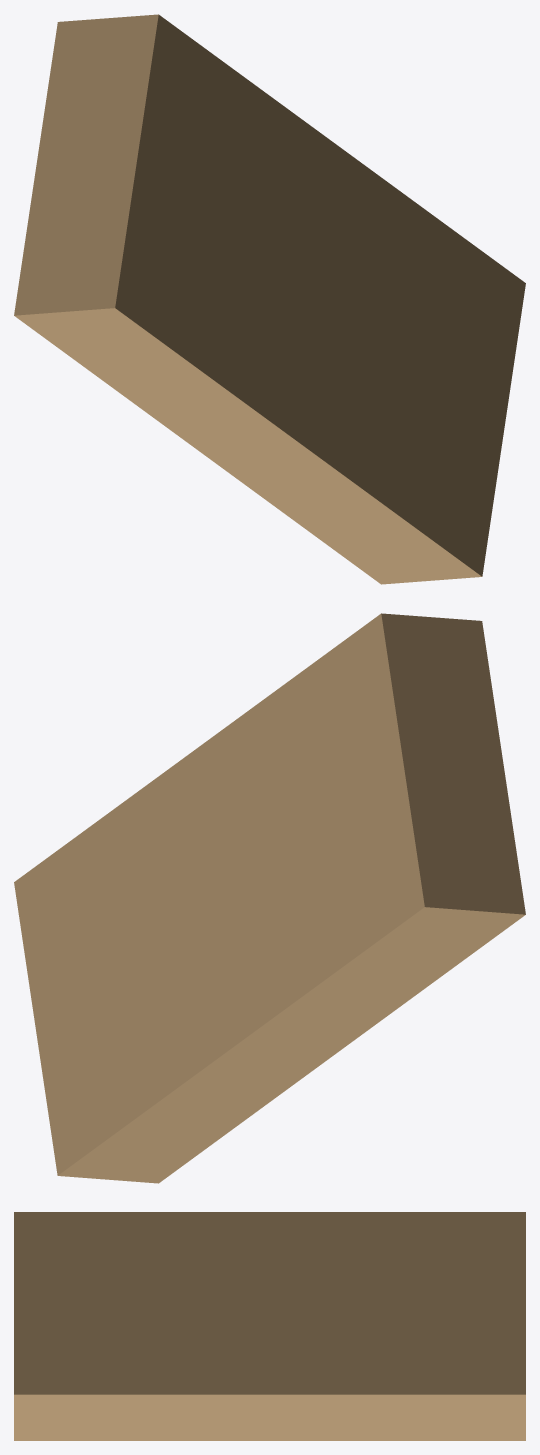
3 renders of one model, top to bottom at view 1: azimuth 30°, elevation 25°; view 2: azimuth 150°, elevation 25°; view 3: azimuth 270°, elevation 25°, orthographic. The views are drawn at different scales.
Visible parts, largest first — view 1: 0_3_2_3_1_2_1_0_3_1; view 2: 0_3_2_3_1_2_1_0_3_1; view 3: 0_3_2_3_1_2_1_0_3_1.
Part boxes in pixels (left/top/right/bottom): 0_3_2_3_1_2_1_0_3_1: left=14, top=14, right=525, bottom=584; 0_3_2_3_1_2_1_0_3_1: left=14, top=613, right=525, bottom=1183; 0_3_2_3_1_2_1_0_3_1: left=14, top=1212, right=525, bottom=1440.
Bounding box in the file's own units: 5.46 × 10.82 × 24.
